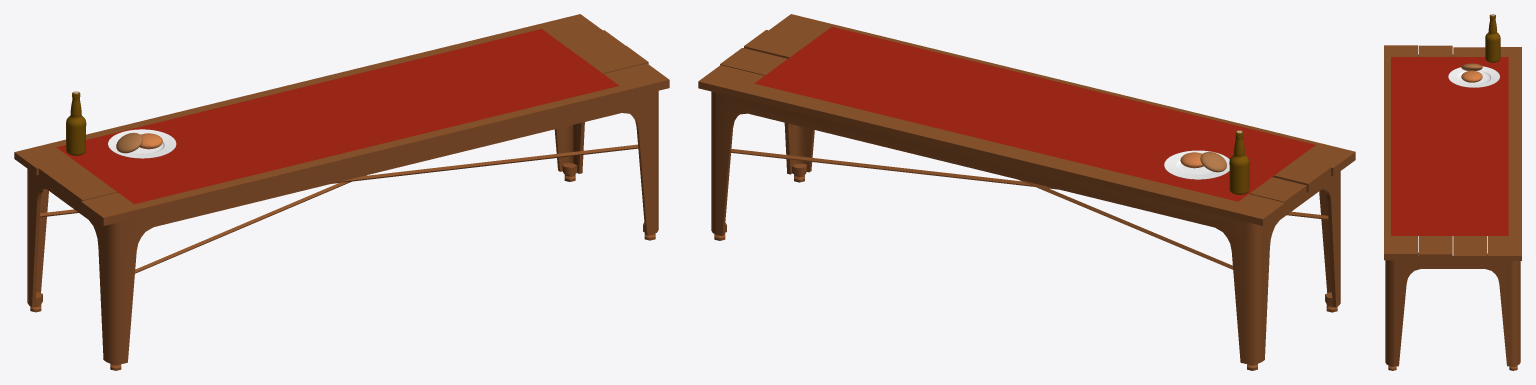
Rendered from bench3.glb.
3 renders of one model, left to right at view 1: azimuth 30°, elevation 25°; view 2: azimuth 150°, elevation 25°; view 3: azimuth 270°, elevation 25°, orthographic. The views are drawn at different scales.
Visible parts, largest first — view 1: 平面; view 2: 平面; view 3: 平面.
Part boxes in pixels (left/top/right/bottom): 平面: left=14, top=14, right=669, bottom=370; 平面: left=698, top=14, right=1355, bottom=370; 平面: left=1384, top=14, right=1521, bottom=370.
Bounding box in the file's own units: 2.11 × 0.7824 × 0.5855.
